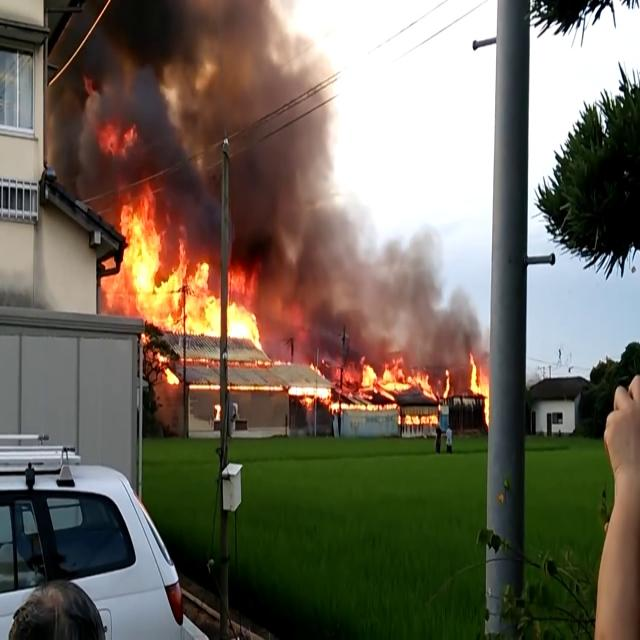fire: (117, 231, 240, 337)
smoke: (80, 16, 280, 196), (250, 217, 368, 332)
